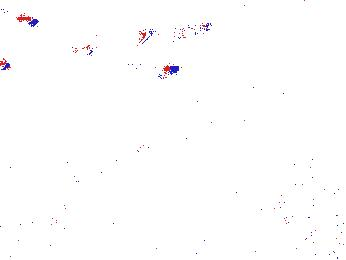glassfish: (74, 129, 189, 192)
red belly glassfish: (49, 40, 95, 58), (154, 61, 181, 81), (16, 12, 41, 29), (1, 57, 11, 74)
redtail glassfish: (135, 18, 213, 47)
